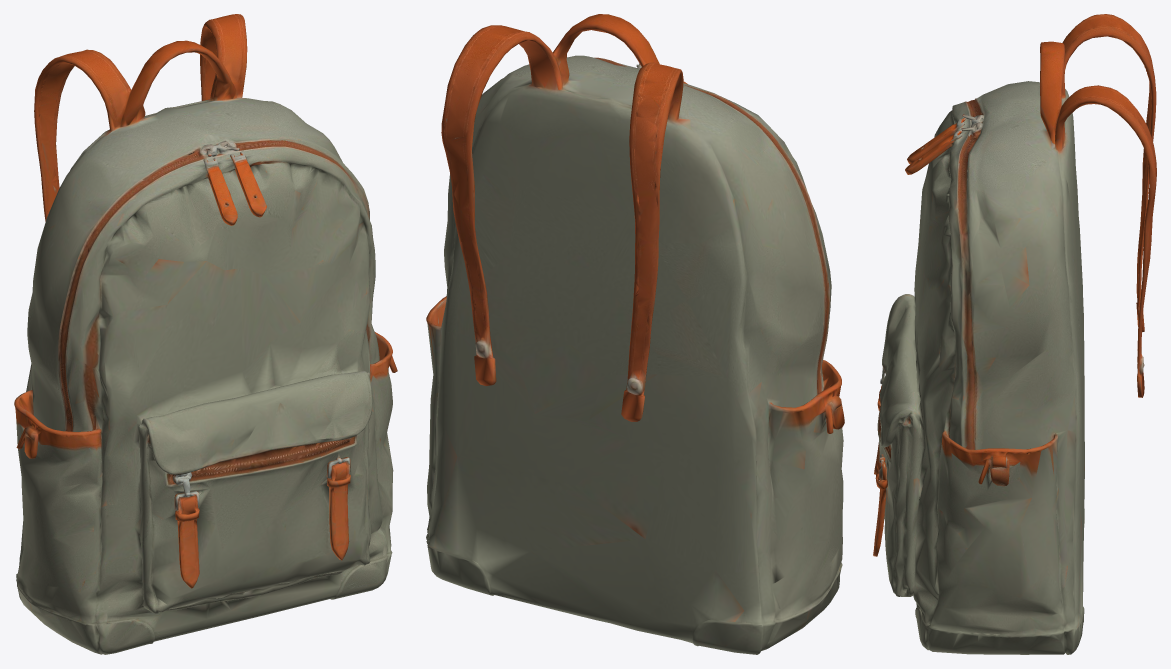
The model's file is canvas-backpack.glb.
3 views of the same model, side by side, from view 1: azimuth 30°, elevation 25°; view 2: azimuth 150°, elevation 25°; view 3: azimuth 270°, elevation 25° (orthographic). The views are drawn at different scales.
Visible parts, largest first — view 1: Mesh_0; view 2: Mesh_0; view 3: Mesh_0.
Boxes of the visible parts, box(x1,y1,x2,y2) form: Mesh_0: box(14, 14, 397, 654); Mesh_0: box(426, 14, 844, 654); Mesh_0: box(873, 14, 1156, 654).
Bounding box in the file's own units: 0.3002 × 0.42 × 0.2001.
1 material, 1 textured.
